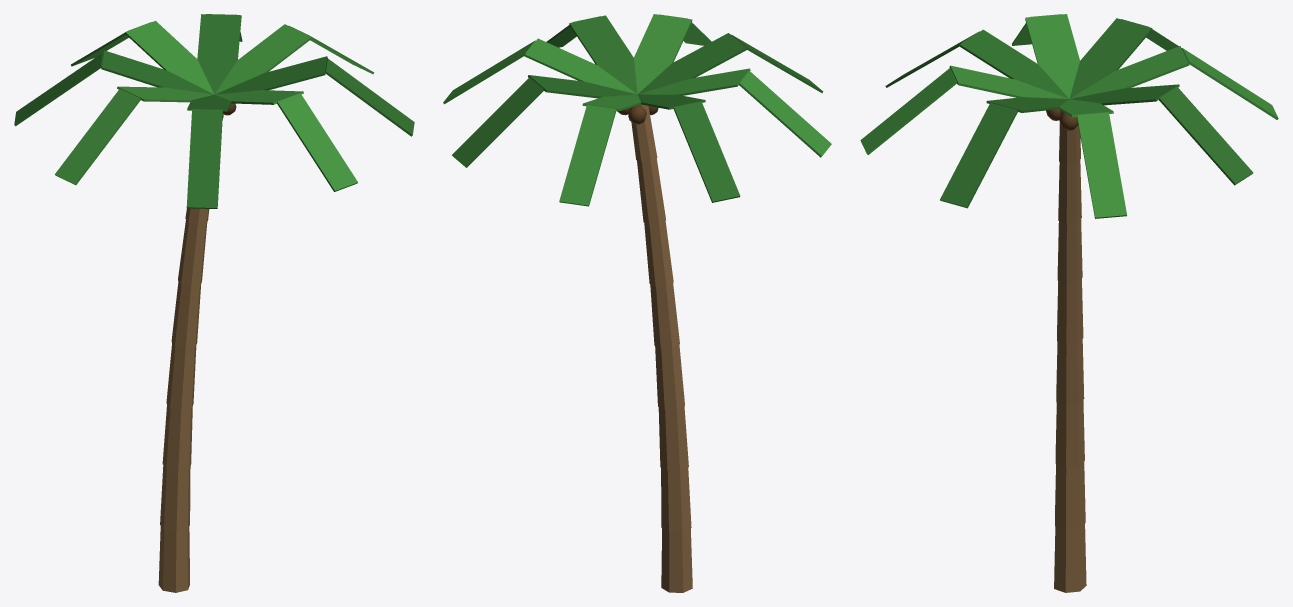
File: palmeira.glb
3 views of the same model, side by side, from view 1: azimuth 30°, elevation 25°; view 2: azimuth 150°, elevation 25°; view 3: azimuth 270°, elevation 25° (orthographic). The views are drawn at different scales.
Visible parts, largest first — view 1: palmeira_corpo; view 2: palmeira_corpo; view 3: palmeira_corpo.
Part boxes in pixels (box(x1,y1,x2,y2)): palmeira_corpo: box(14, 14, 414, 592); palmeira_corpo: box(443, 14, 831, 592); palmeira_corpo: box(860, 14, 1278, 592).
Bounding box in the file's own units: 5.4 × 7.72 × 5.4.
